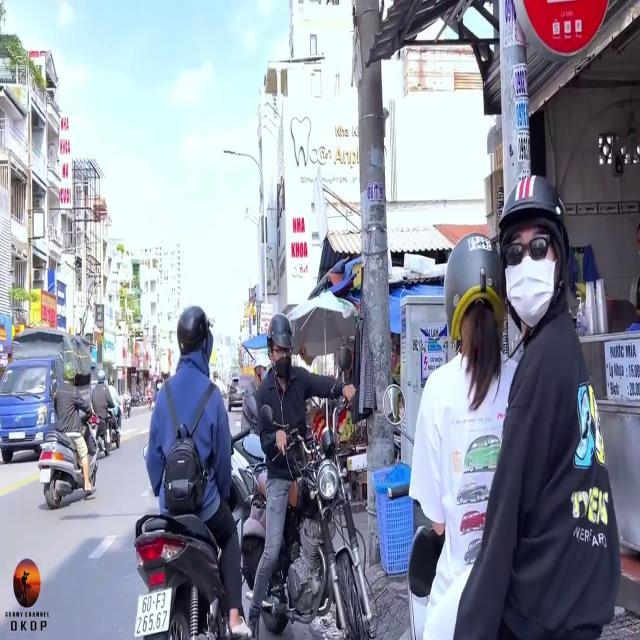bien_trang: (135, 590, 174, 640)
